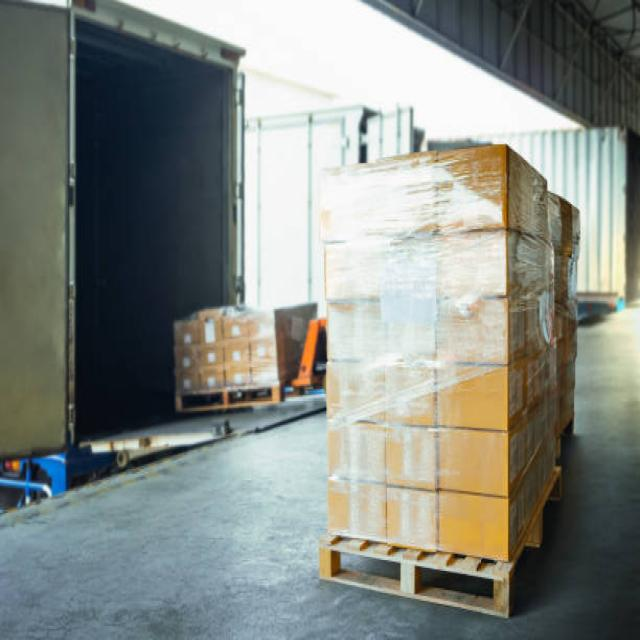Wooden-Pallets: (319, 461, 563, 626), (169, 375, 285, 432)
